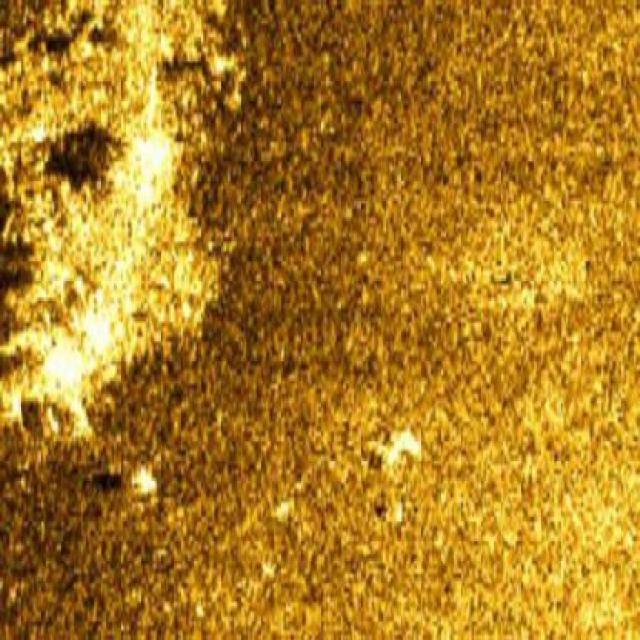bedrock group: (1, 0, 244, 411)
